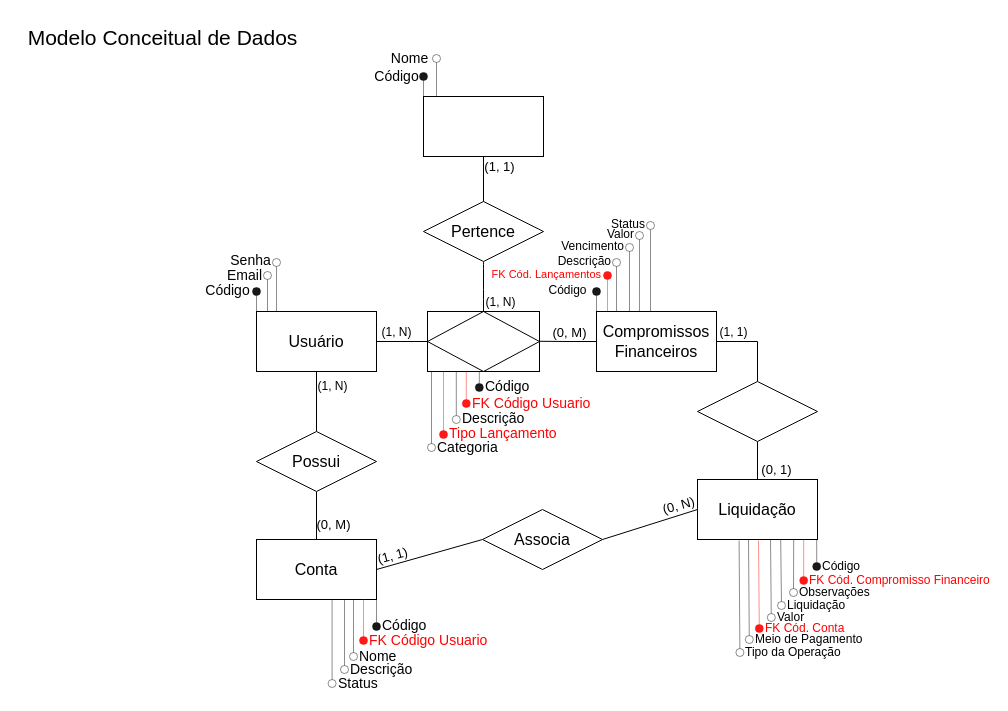
The diagram is 1008 pixels wide and 711 high, and some of its shapes have lost their labels. Each missing label, with the centre of its shape:
"Categoria Financeira" goes at point 483,126.
"Efetua" goes at point 757,411.
"Lançamento" goes at point 483,341.
